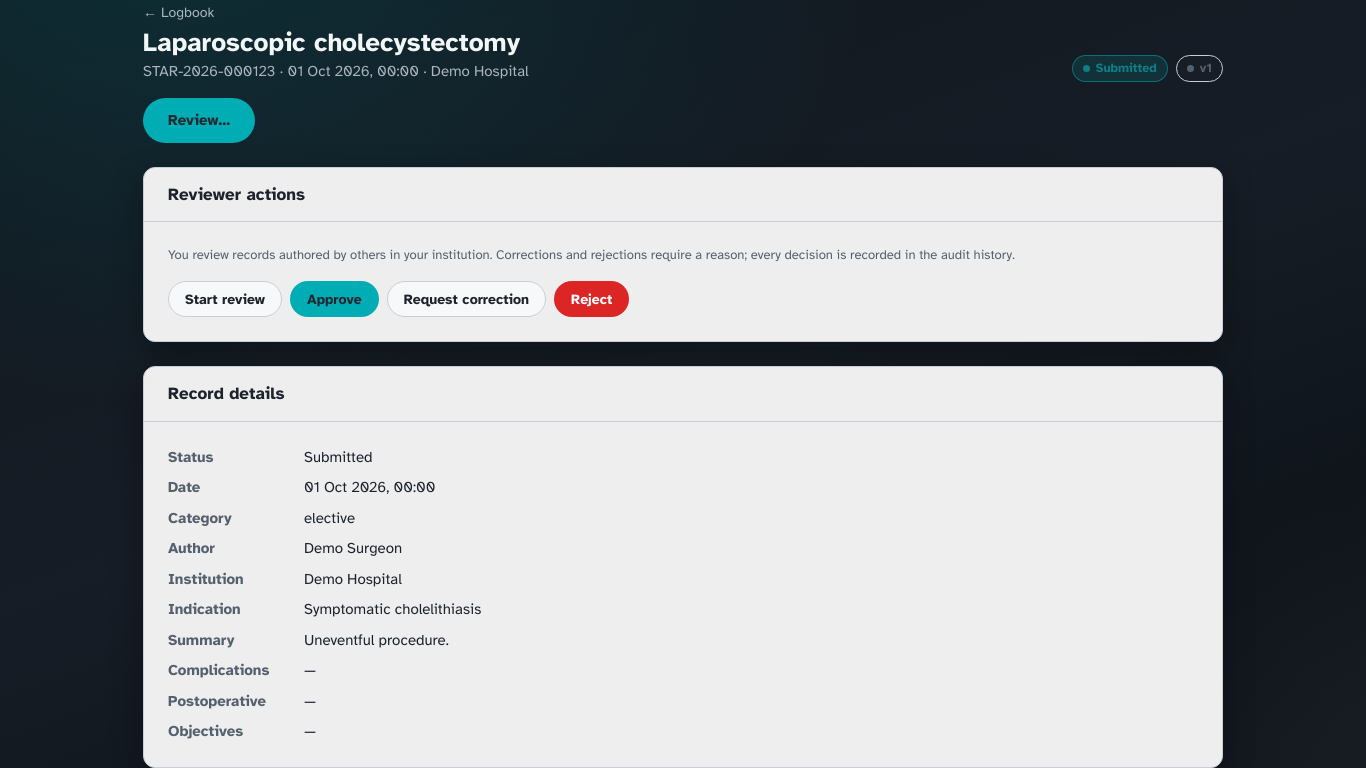
Test: ProcedureDetailPage › requires a reason before requesting a correction (scenario B)
The image size is (1366, 768).
Later steps or results of the test are not shown.
Click the button "Request correction". click: (466, 299)
box: [387,281,546,317]
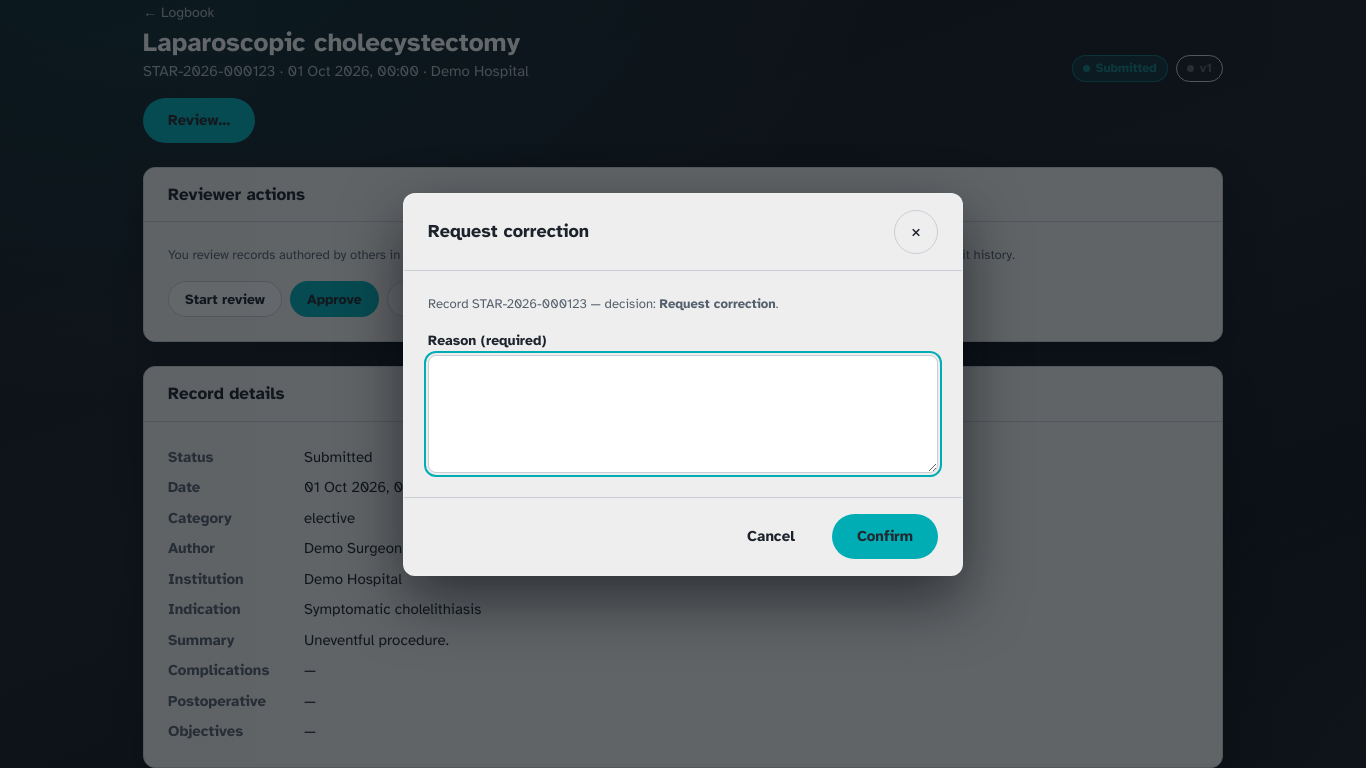
Check: the dialog is shown, box [403,192,963,576]
Click the button "Confirm". click: (885, 536)
box: [832,514,938,558]
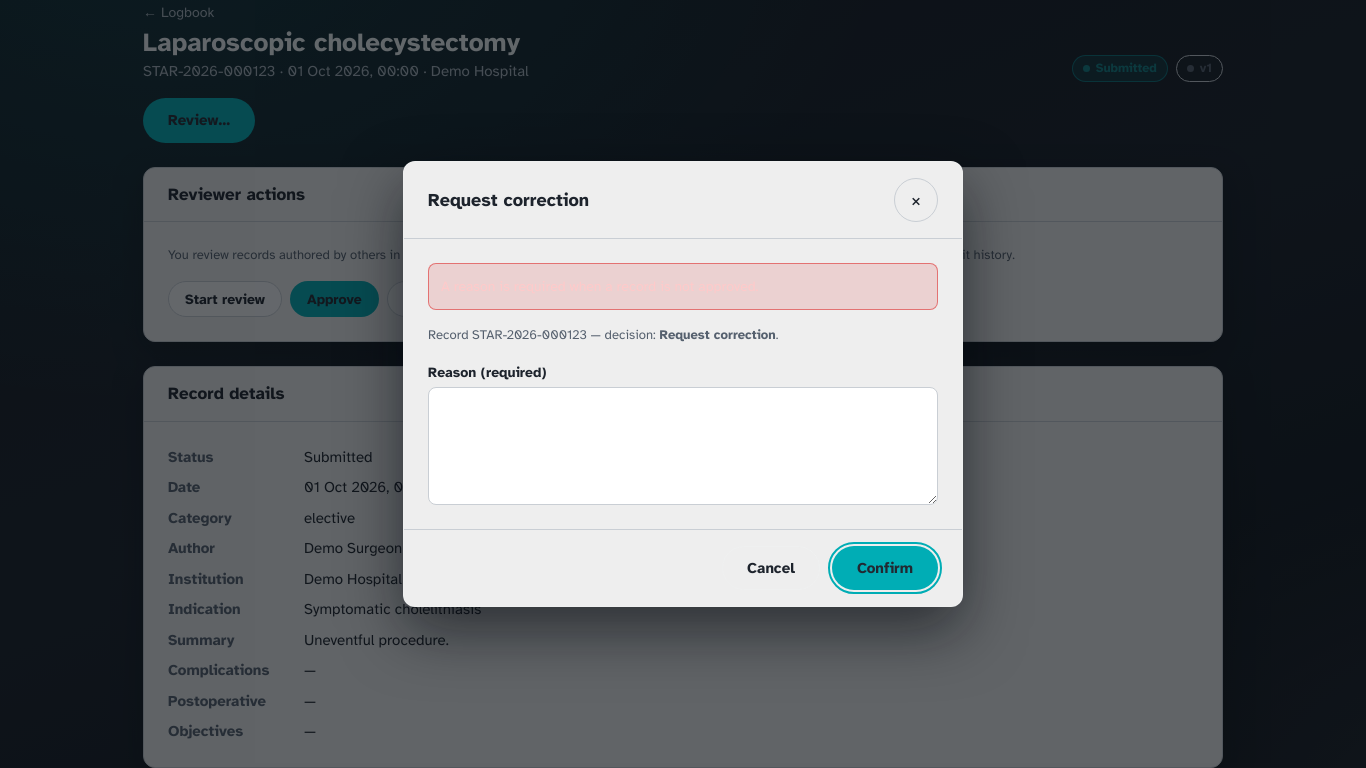
Check: the text "A reason is required when a record is not approved." is shown, box [428,263,938,310]
